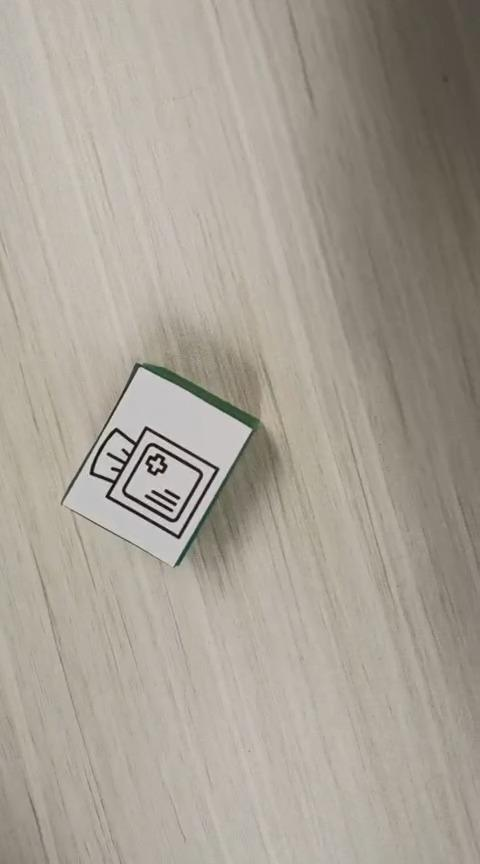Gauze: (60, 361, 260, 568)
